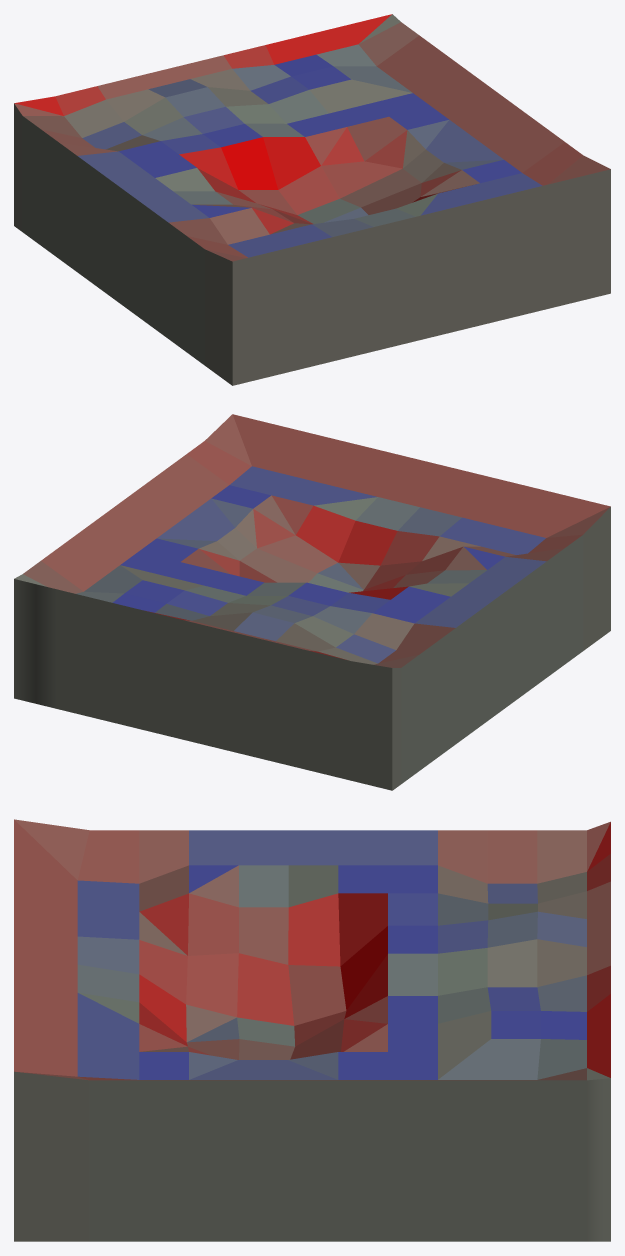
The model's file is waterTestTerrain.fbx.
The picture shows the model from 3 angles, top to bottom: view 1: azimuth 30°, elevation 25°; view 2: azimuth 150°, elevation 25°; view 3: azimuth 270°, elevation 25°; orthographic projection. The views are drawn at different scales.
Visible parts, largest first — view 1: Mesh; view 2: Mesh; view 3: Mesh.
Part boxes in pixels (x1,y1,x2,y2): Mesh: (14,14,610,385); Mesh: (14,414,610,790); Mesh: (14,819,610,1241).
Bounding box in the file's own units: 1000 × 314 × 1000.
